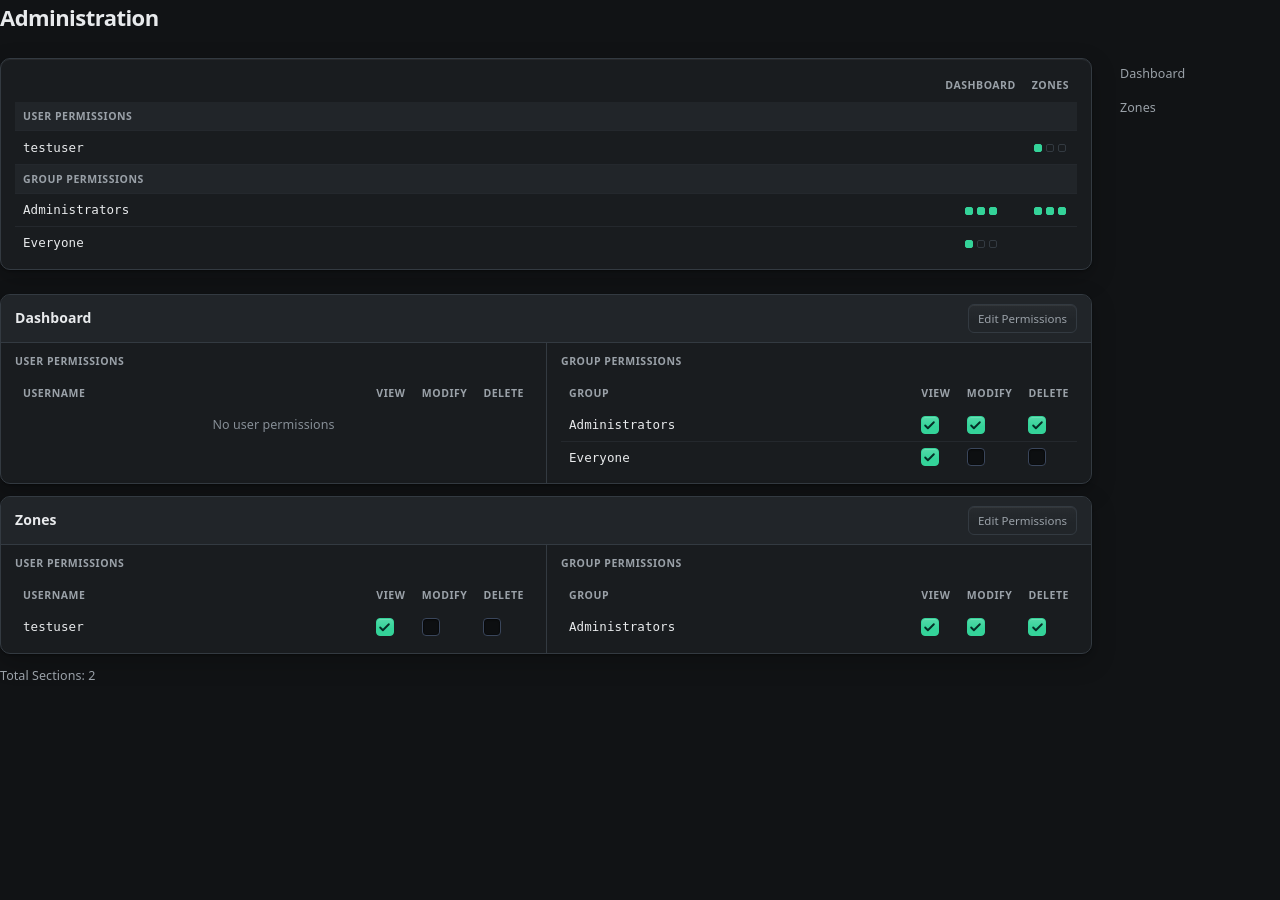
Scenario: Permissions: the editing modal › it asks for the section with users and groups
Check: the heading "Dashboard" is shown, box [15,310,92,328]
Step 1. Click the 1st button "Edit Permissions" → {"x": 1022, "y": 318}, box [968,304,1077,333]
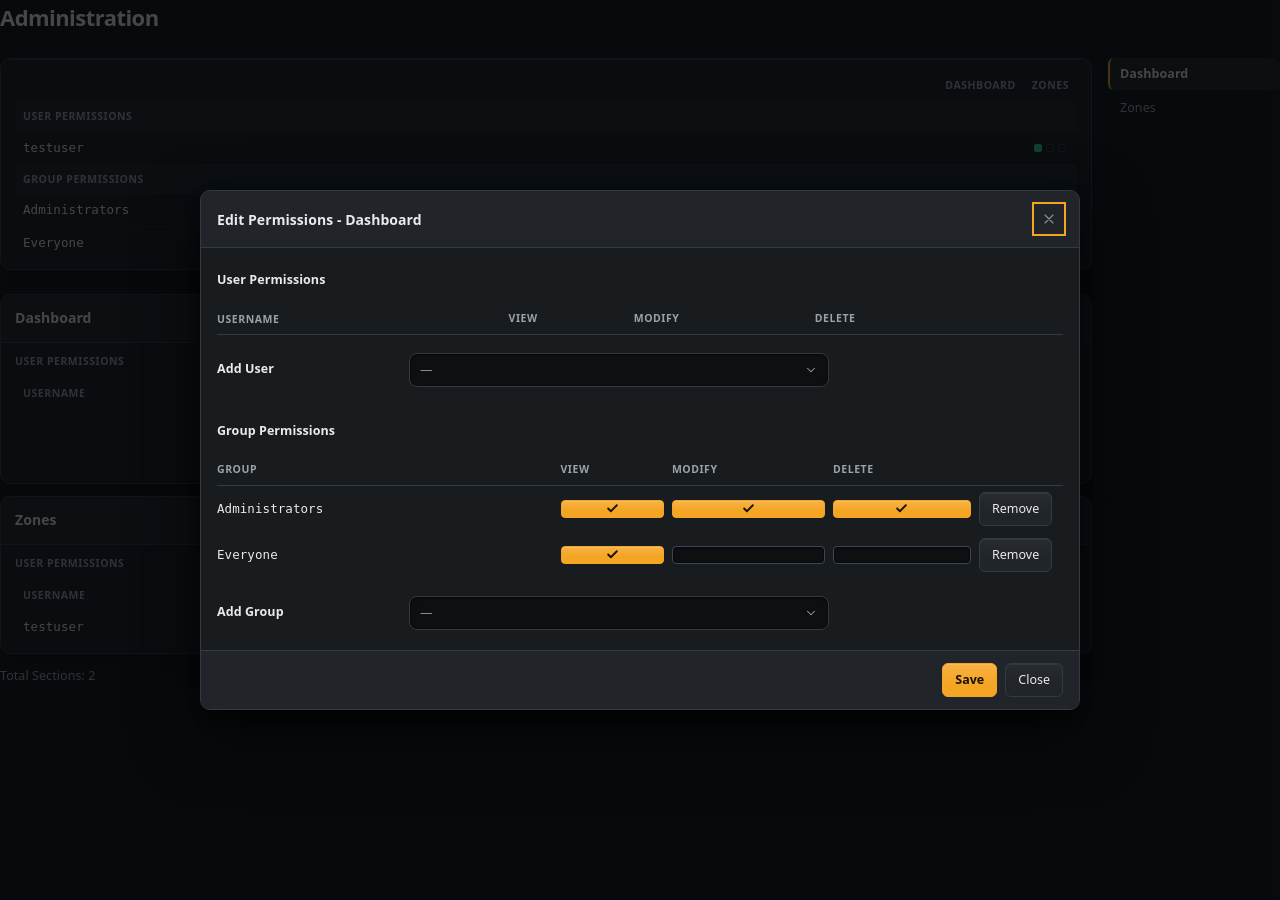
Check: the dialog is shown, box [200,190,1080,710]
